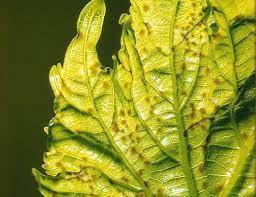Bok-Choy-Diseased: (114, 3, 256, 197)
